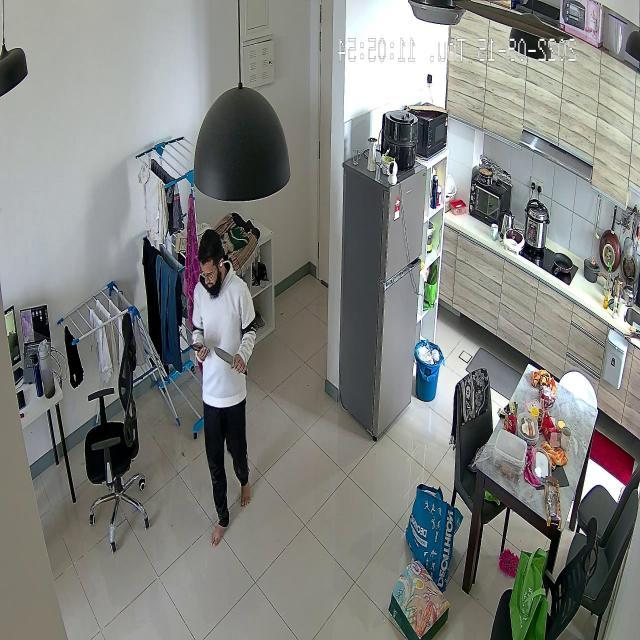Knife: (210, 339, 252, 379)
